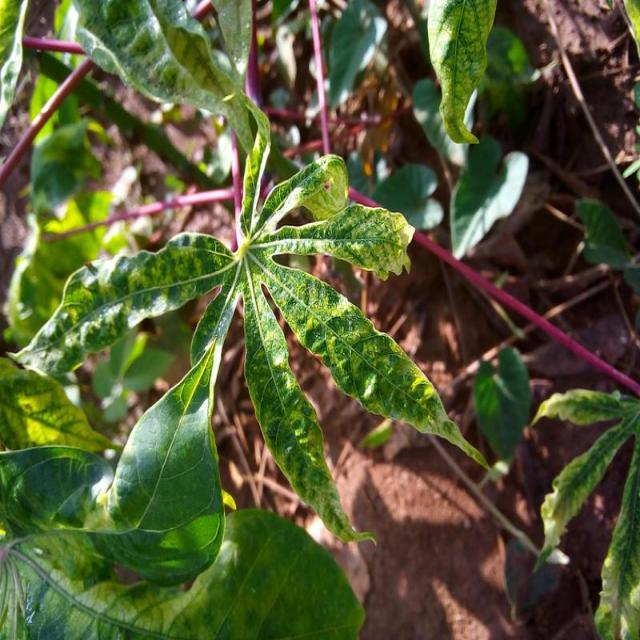cassava leaf: (7, 104, 490, 566), (426, 0, 497, 145)
